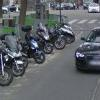Motorcycle: (4, 26, 60, 76)
